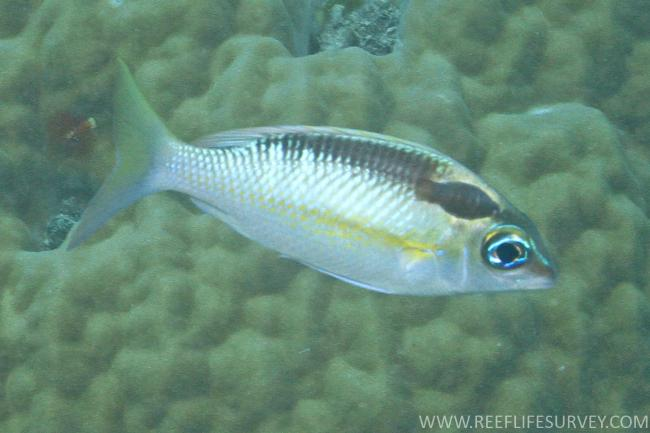fish: (62, 55, 558, 296)
